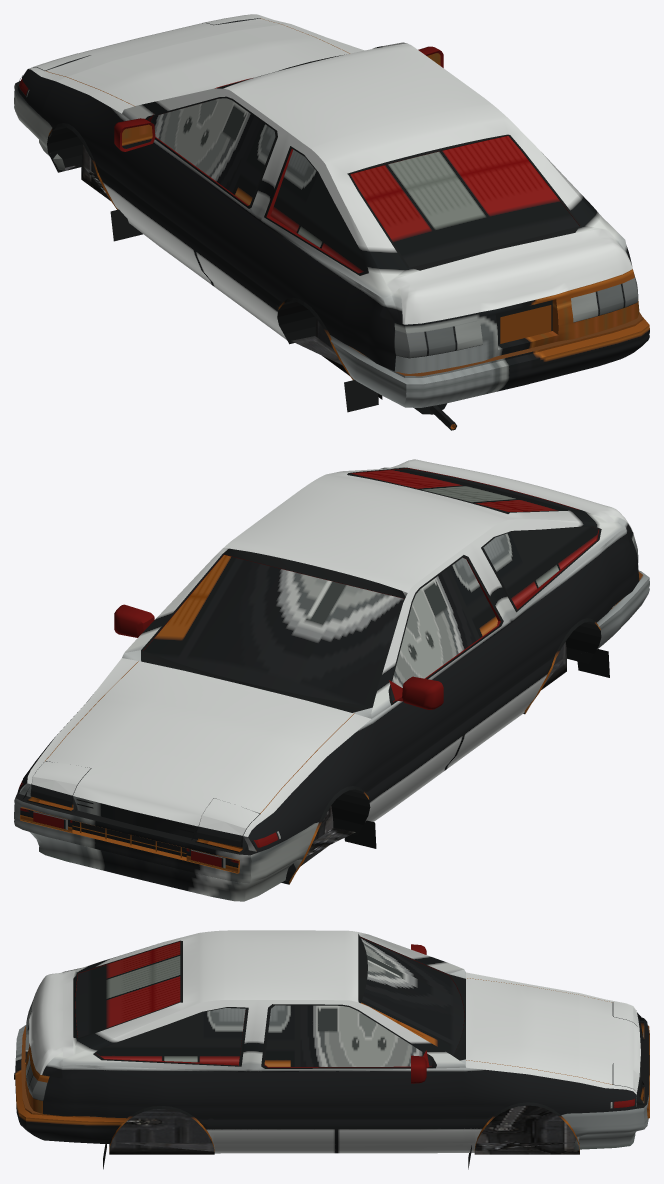
Rendered from hatch_83_popup.obj.
3 views of the same model, one above another, from view 1: azimuth 30°, elevation 25°; view 2: azimuth 150°, elevation 25°; view 3: azimuth 270°, elevation 25° (orthographic). The views are drawn at different scales.
Parts seen in each view (by area): view 1: hatch_83_popup; view 2: hatch_83_popup; view 3: hatch_83_popup.
Boxes of the visible parts, x1=… form: hatch_83_popup: x1=14, y1=14, x2=649, y2=430; hatch_83_popup: x1=14, y1=459, x2=649, y2=901; hatch_83_popup: x1=14, y1=930, x2=649, y2=1169.
Bounding box in the file's own units: 1.93 × 1.16 × 4.21.
Materials: 1 (1 with a texture image).
